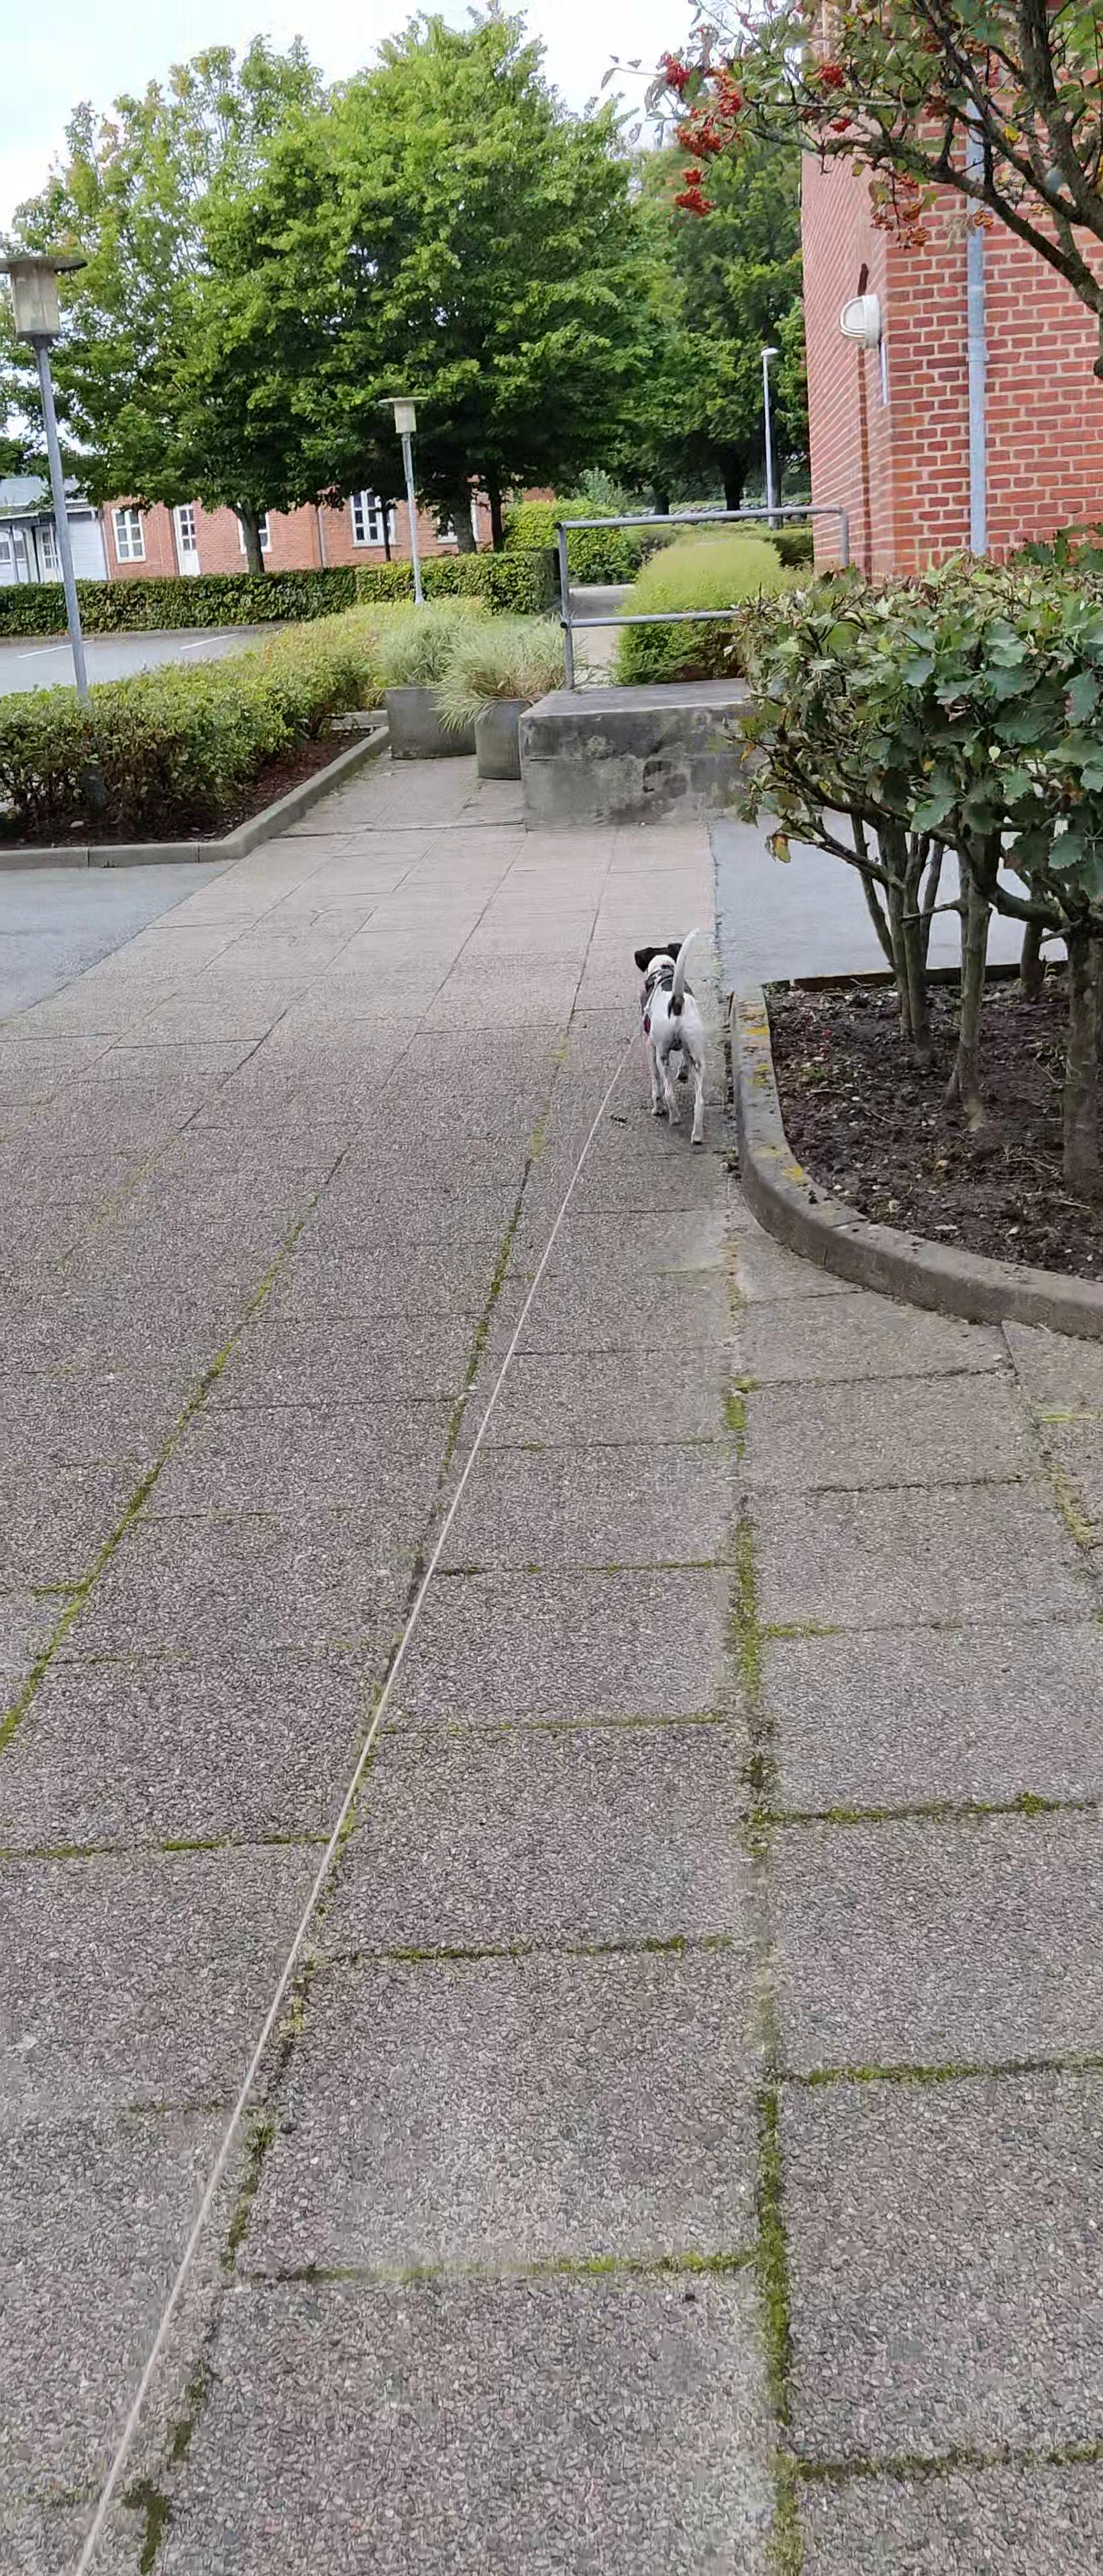Dog: (626, 920, 712, 1148)
